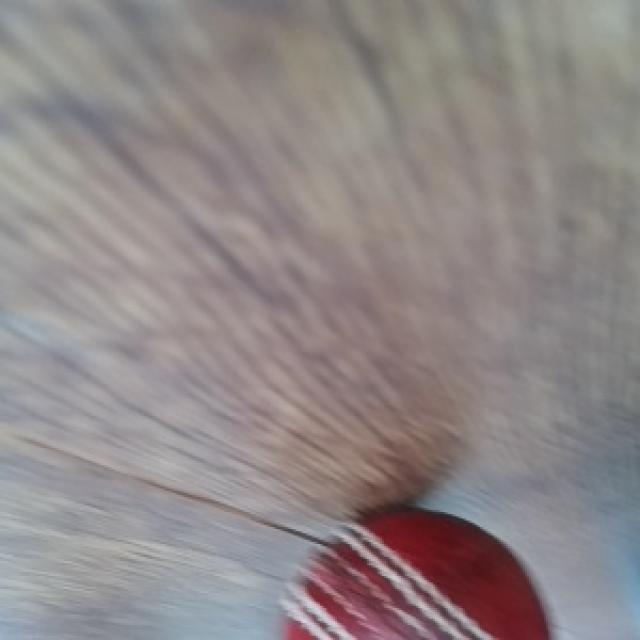ball: (282, 510, 555, 640)
